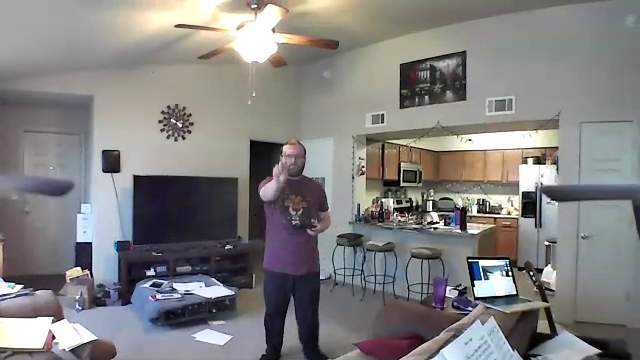up: (265, 149, 291, 181)
